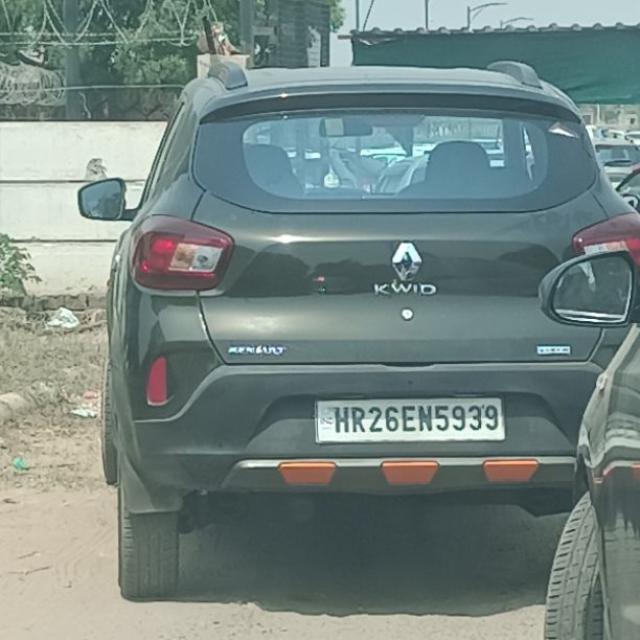license_plate: (313, 394, 506, 444)
